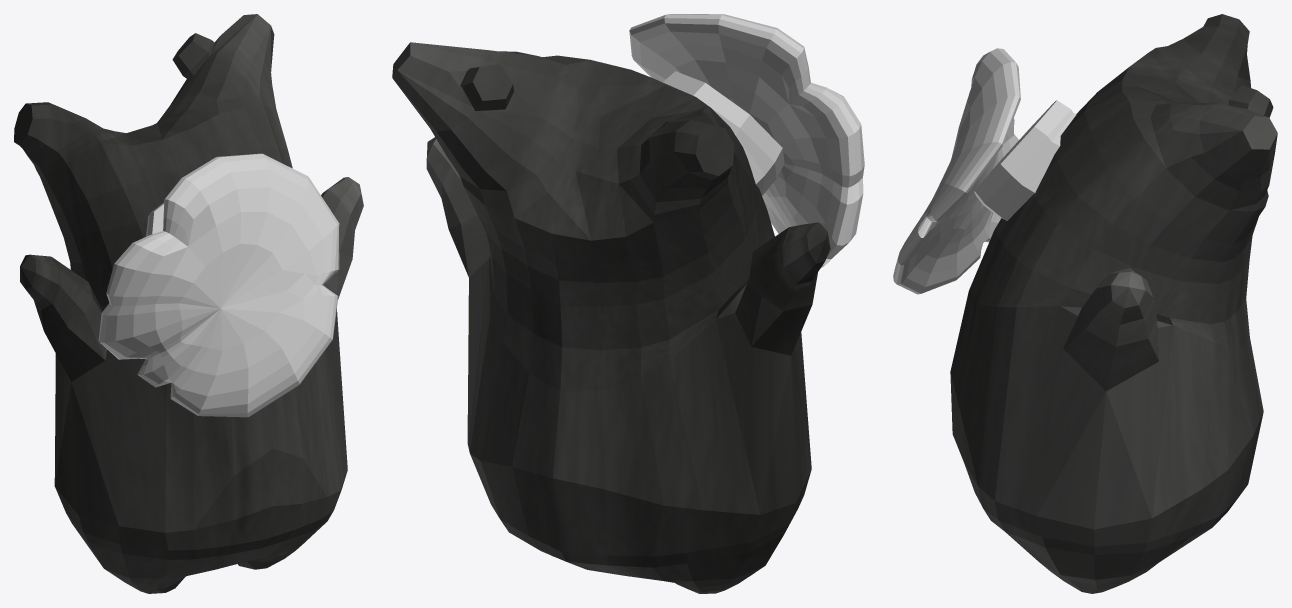
File: frame_0020.obj
3 views of the same model, side by side, from view 1: azimuth 30°, elevation 25°; view 2: azimuth 150°, elevation 25°; view 3: azimuth 270°, elevation 25° (orthographic). The views are drawn at different scales.
Parts seen in each view (by area): view 1: korok, leaf; view 2: korok, leaf, nose; view 3: korok, leaf, nose.
Part boxes in pixels (left/top/right/bottom): korok: left=14, top=14, right=363, bottom=593; leaf: left=98, top=153, right=339, bottom=417; korok: left=392, top=42, right=830, bottom=593; leaf: left=629, top=14, right=864, bottom=268; nose: left=663, top=71, right=784, bottom=195; korok: left=950, top=14, right=1277, bottom=593; leaf: left=893, top=48, right=1020, bottom=294; nose: left=974, top=100, right=1076, bottom=220.
Size of the model in its own units: 1.55 by 2.09 by 1.42.
